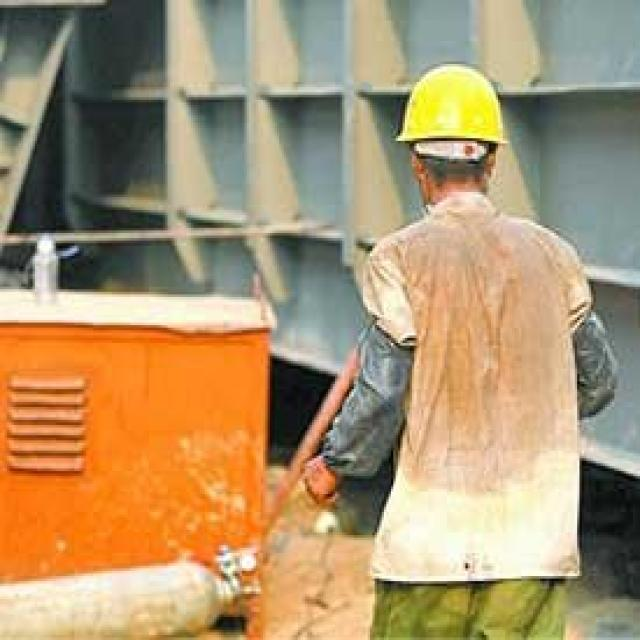helmet: (391, 59, 505, 207)
